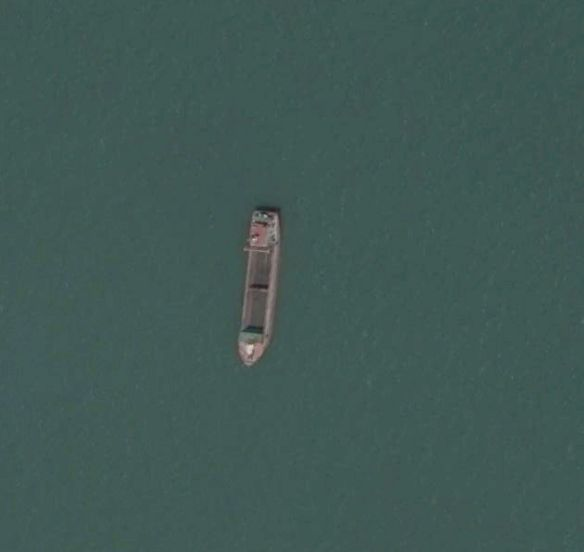boat: (235, 209, 287, 368)
